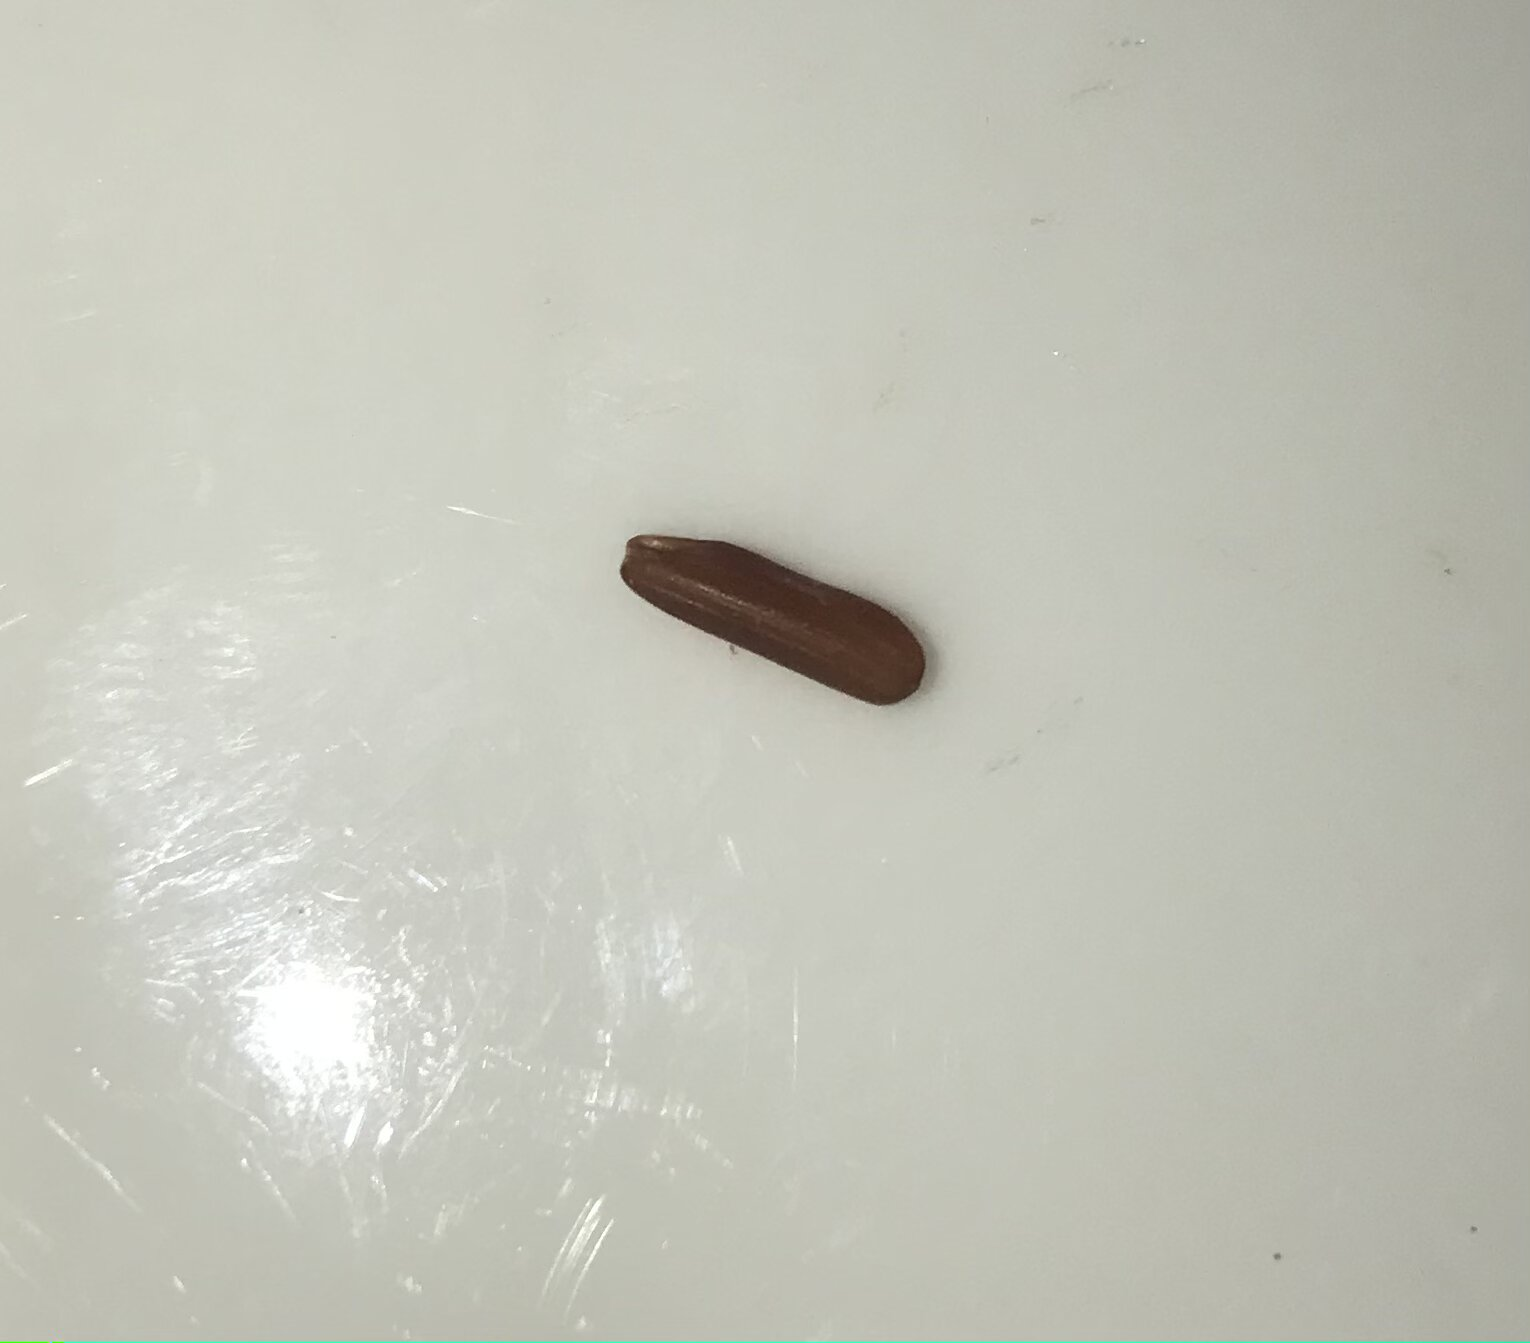Gao Huyet Rong: (602, 517, 943, 724)
